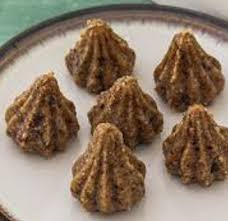modak: (76, 122, 144, 207), (8, 69, 75, 153), (69, 18, 141, 93), (156, 29, 228, 100), (164, 106, 228, 179), (97, 74, 163, 142)
